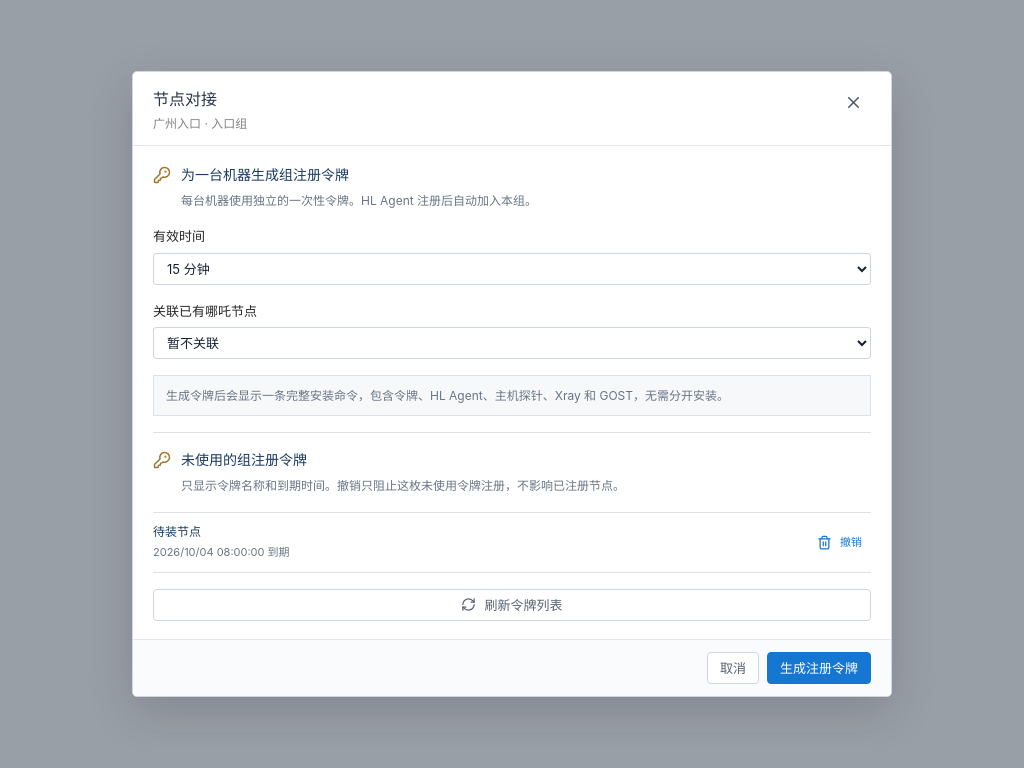
Test: GroupIntegrationDialog › lists only non-secret pending tokens and revokes after confirmation
Step 1. Click the button with aria-label "撤销 待装节点" → (840, 542), box [808,527,871,557]
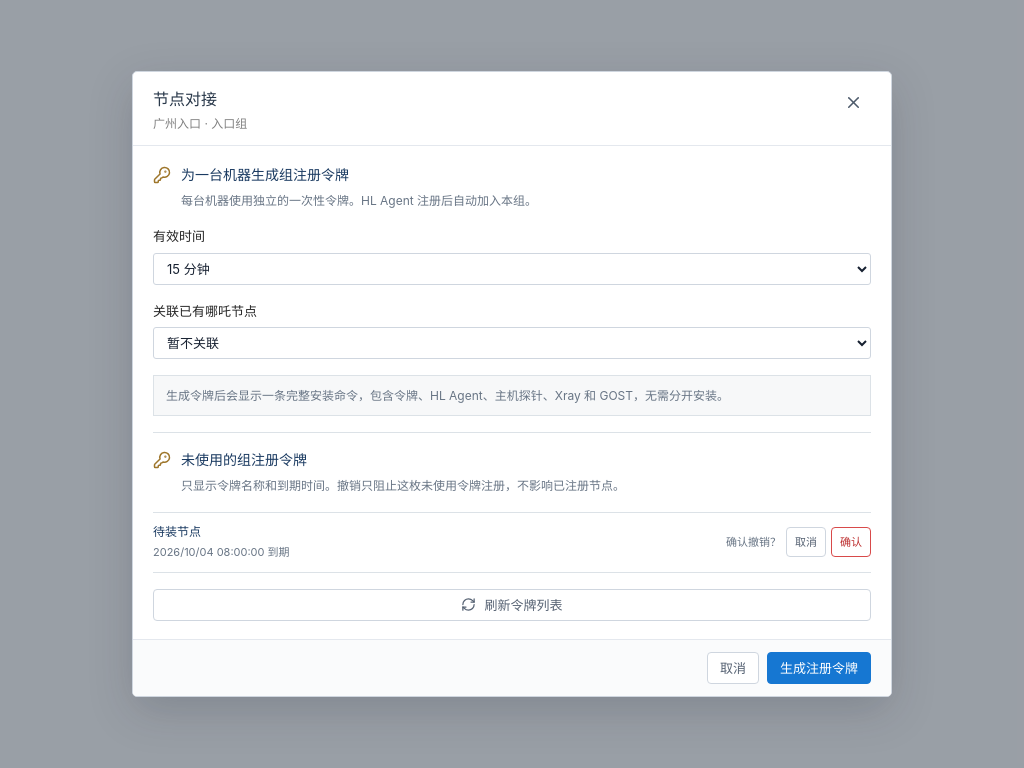
Step 2. Click the button with class "button--danger" → (851, 542), box [831,527,871,557]
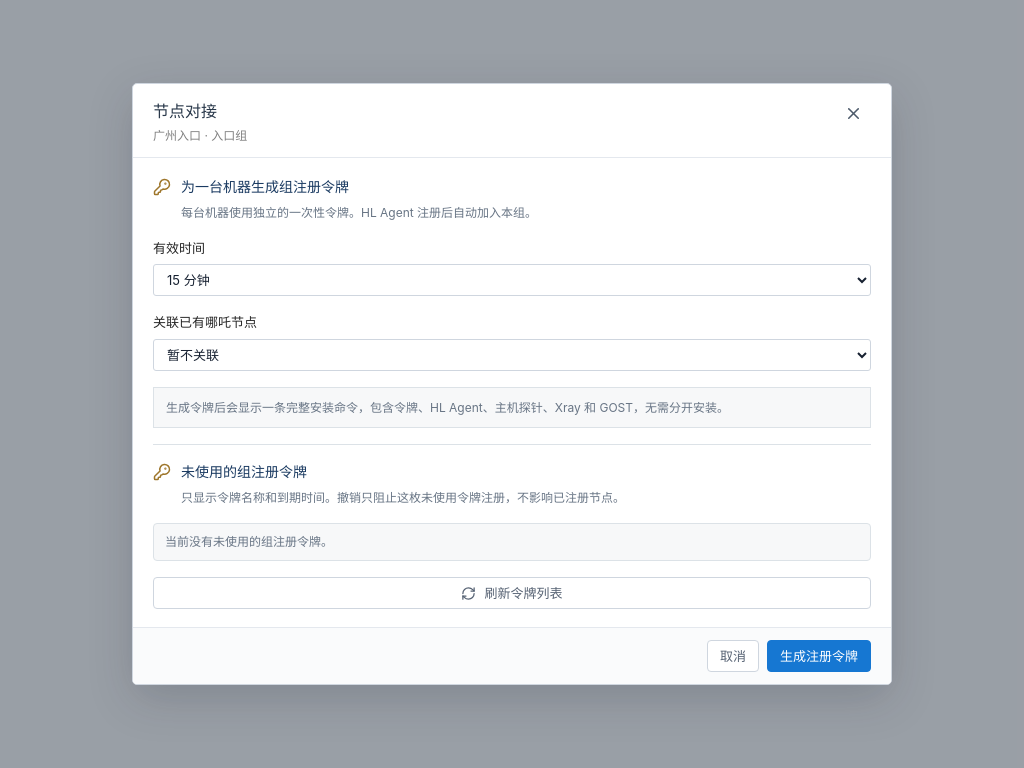
Check: the text "当前没有未使用的组注册令牌" is shown, box [165,534,333,549]
